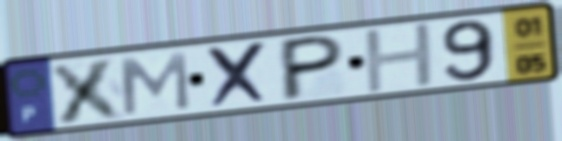9: (439, 18, 498, 85)
H: (360, 19, 440, 97)
M: (117, 50, 193, 118)
P: (277, 32, 348, 105)
X: (46, 55, 132, 127), (203, 39, 274, 112)
